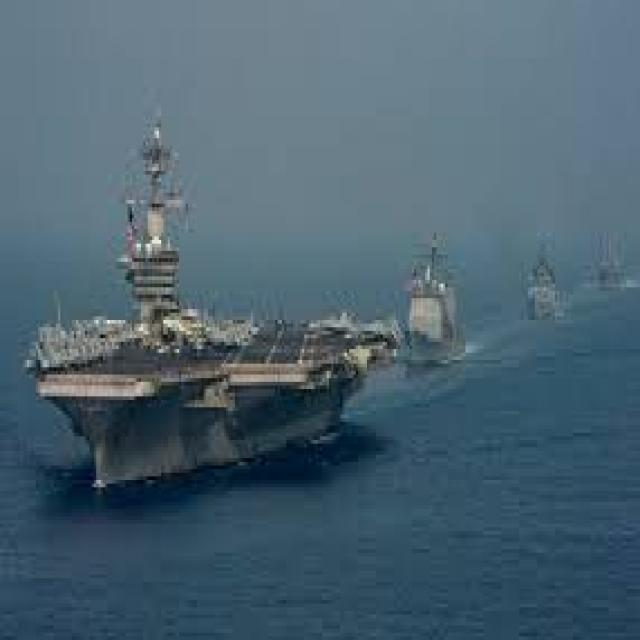navalvessels: (25, 115, 394, 488), (387, 235, 477, 374), (510, 251, 565, 329), (594, 232, 630, 294)
